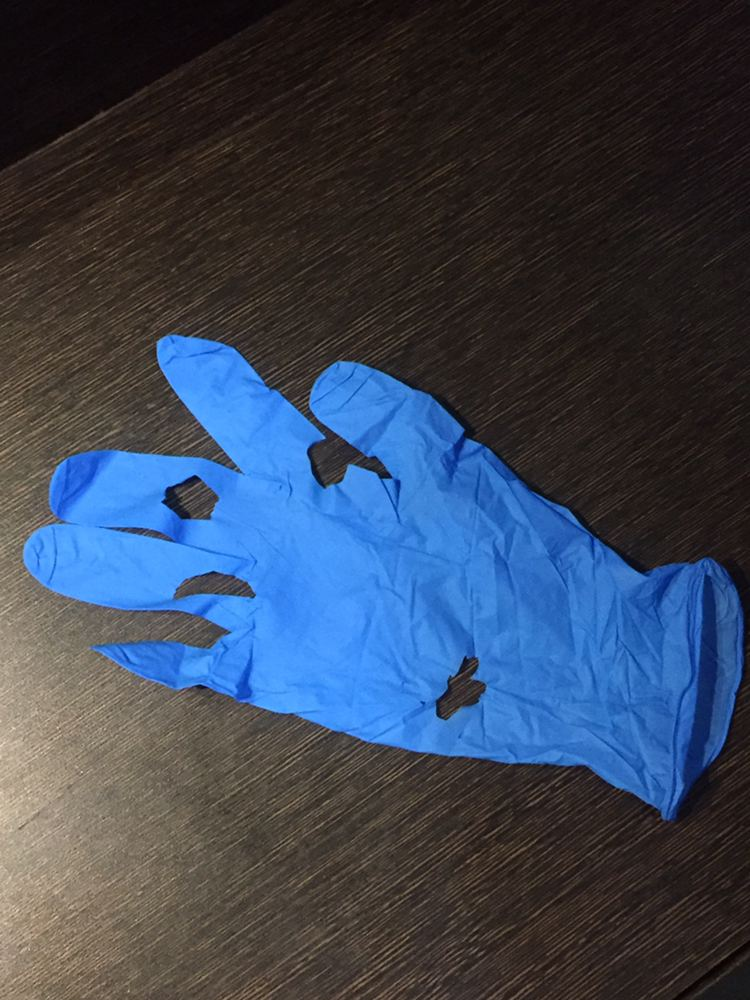defected: (39, 321, 749, 841)
